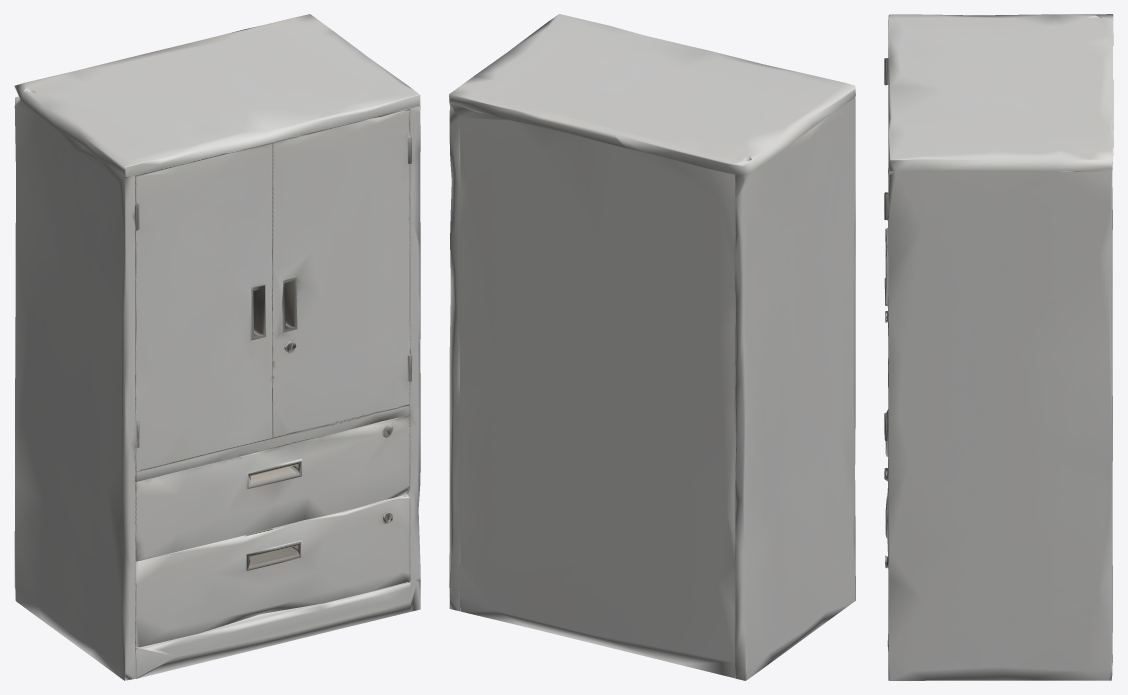
File: ENV_ALL_036_v001_RAW.glb.glb
3 renders of one model, left to right at view 1: azimuth 30°, elevation 25°; view 2: azimuth 150°, elevation 25°; view 3: azimuth 270°, elevation 25°, orthographic.
Parts seen in each view (by area): view 1: tripo_node_8367c677-7dd6-4a22-ac51-ff9eb8b625f7; view 2: tripo_node_8367c677-7dd6-4a22-ac51-ff9eb8b625f7; view 3: tripo_node_8367c677-7dd6-4a22-ac51-ff9eb8b625f7.
Part boxes in pixels (x1=…): tripo_node_8367c677-7dd6-4a22-ac51-ff9eb8b625f7: x1=14, y1=14, x2=420, y2=680; tripo_node_8367c677-7dd6-4a22-ac51-ff9eb8b625f7: x1=449, y1=14, x2=855, y2=680; tripo_node_8367c677-7dd6-4a22-ac51-ff9eb8b625f7: x1=884, y1=14, x2=1113, y2=680.
Size of the model in its own units: 0.589 by 0.9789 by 0.3904.
Materials: 1 (1 with a texture image).
